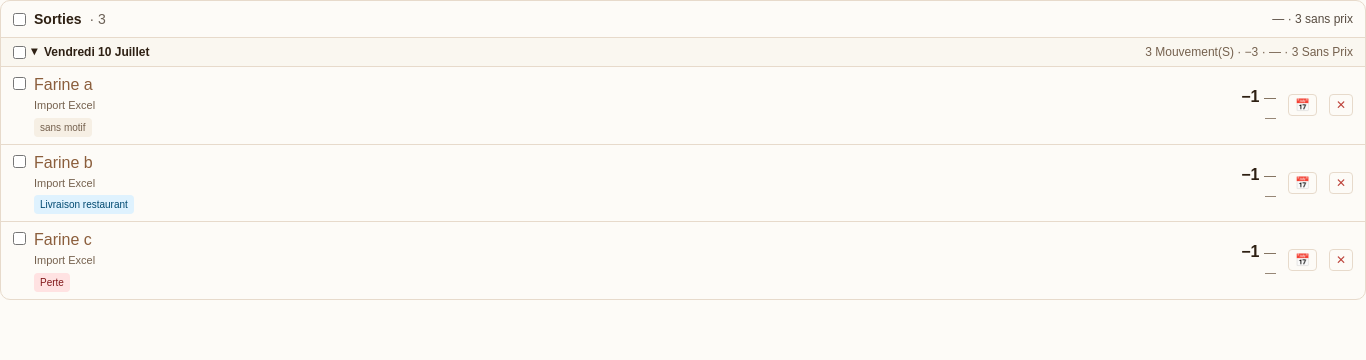
Test: colonne des sorties — motif et requalification groupée › Direction : « Tout sélectionner » puis « Changer le motif » dans la barre d'actions groupées
Click the checkbox named "Tout sélectionner (3 affichés)": (20, 19) [13,12,26,26]
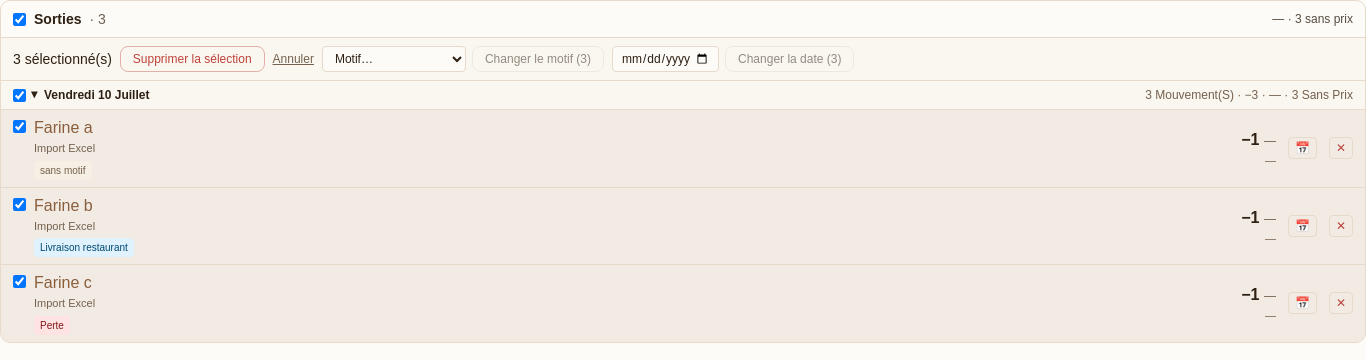
Expected: the text "3 sélectionné(s)" is shown, [13,49,112,69]
Expected: the button "Changer le motif (3)" is shown, [472,46,604,72]
